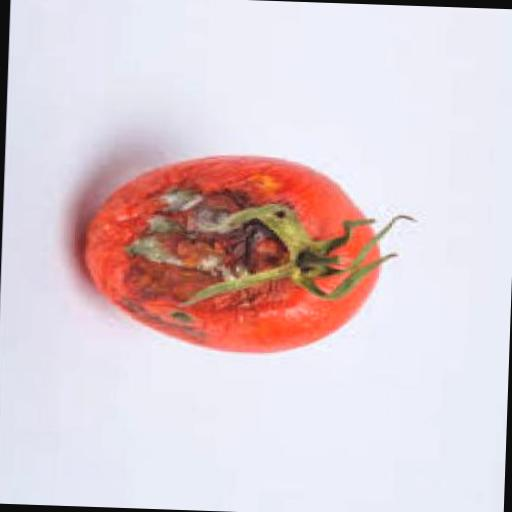biodegradable: (78, 150, 417, 361)
